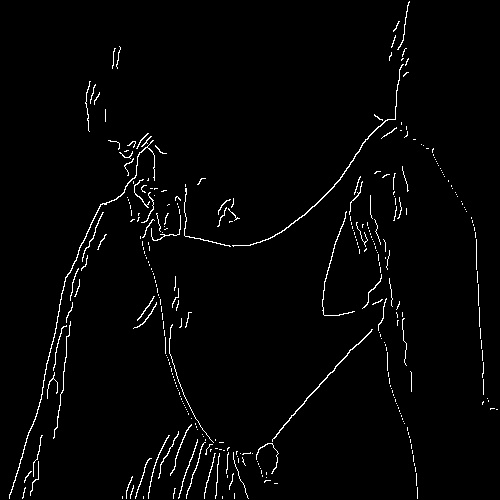mask: (148, 233, 348, 446)
